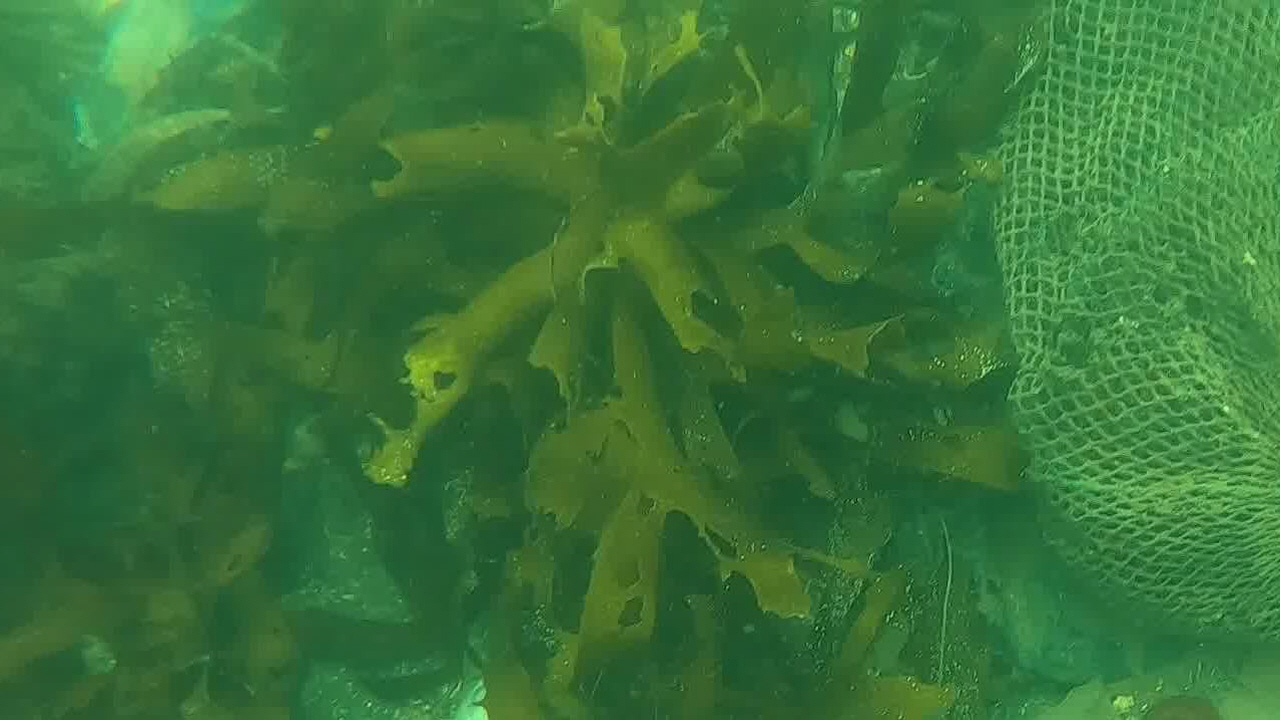fish net: (994, 0, 1280, 642)
